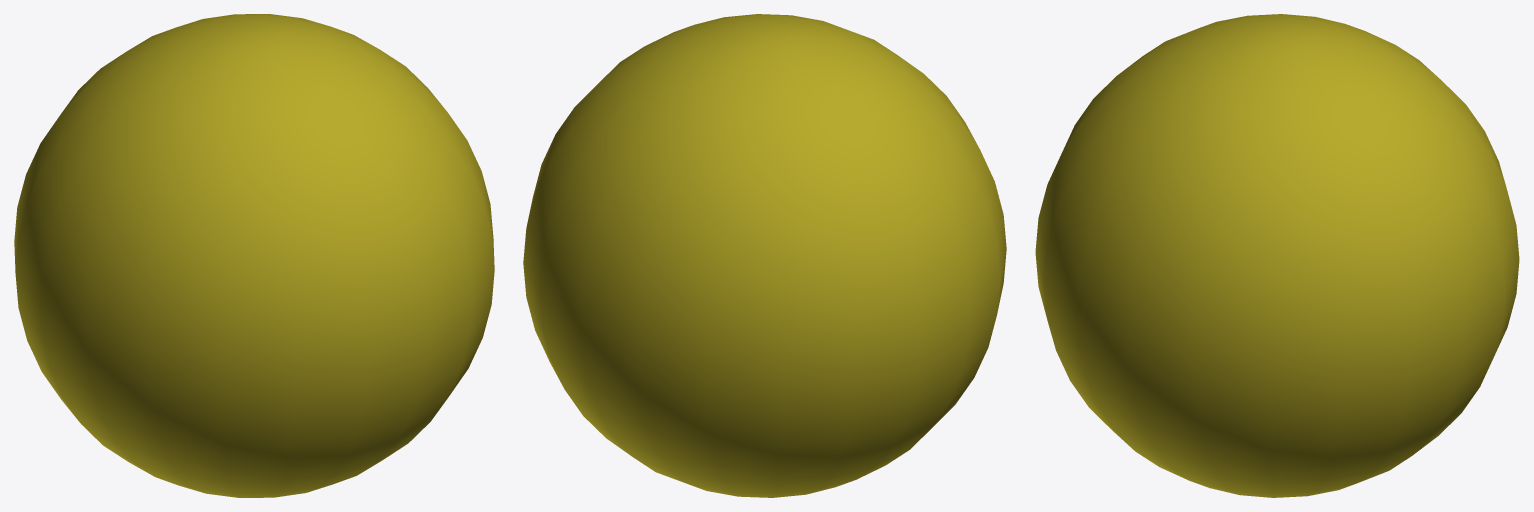
Rendered from FocoLampara.obj.
3 views of the same model, side by side, from view 1: azimuth 30°, elevation 25°; view 2: azimuth 150°, elevation 25°; view 3: azimuth 270°, elevation 25° (orthographic).
Parts seen in each view (by area): view 1: FocoLampara2:pSphere2; view 2: FocoLampara2:pSphere2; view 3: FocoLampara2:pSphere2.
Boxes of the visible parts, x1=… form: FocoLampara2:pSphere2: x1=14, y1=14, x2=494, y2=497; FocoLampara2:pSphere2: x1=523, y1=14, x2=1006, y2=497; FocoLampara2:pSphere2: x1=1035, y1=14, x2=1519, y2=497.
Size of the model in its own units: 0.376 by 0.3763 by 0.376.
